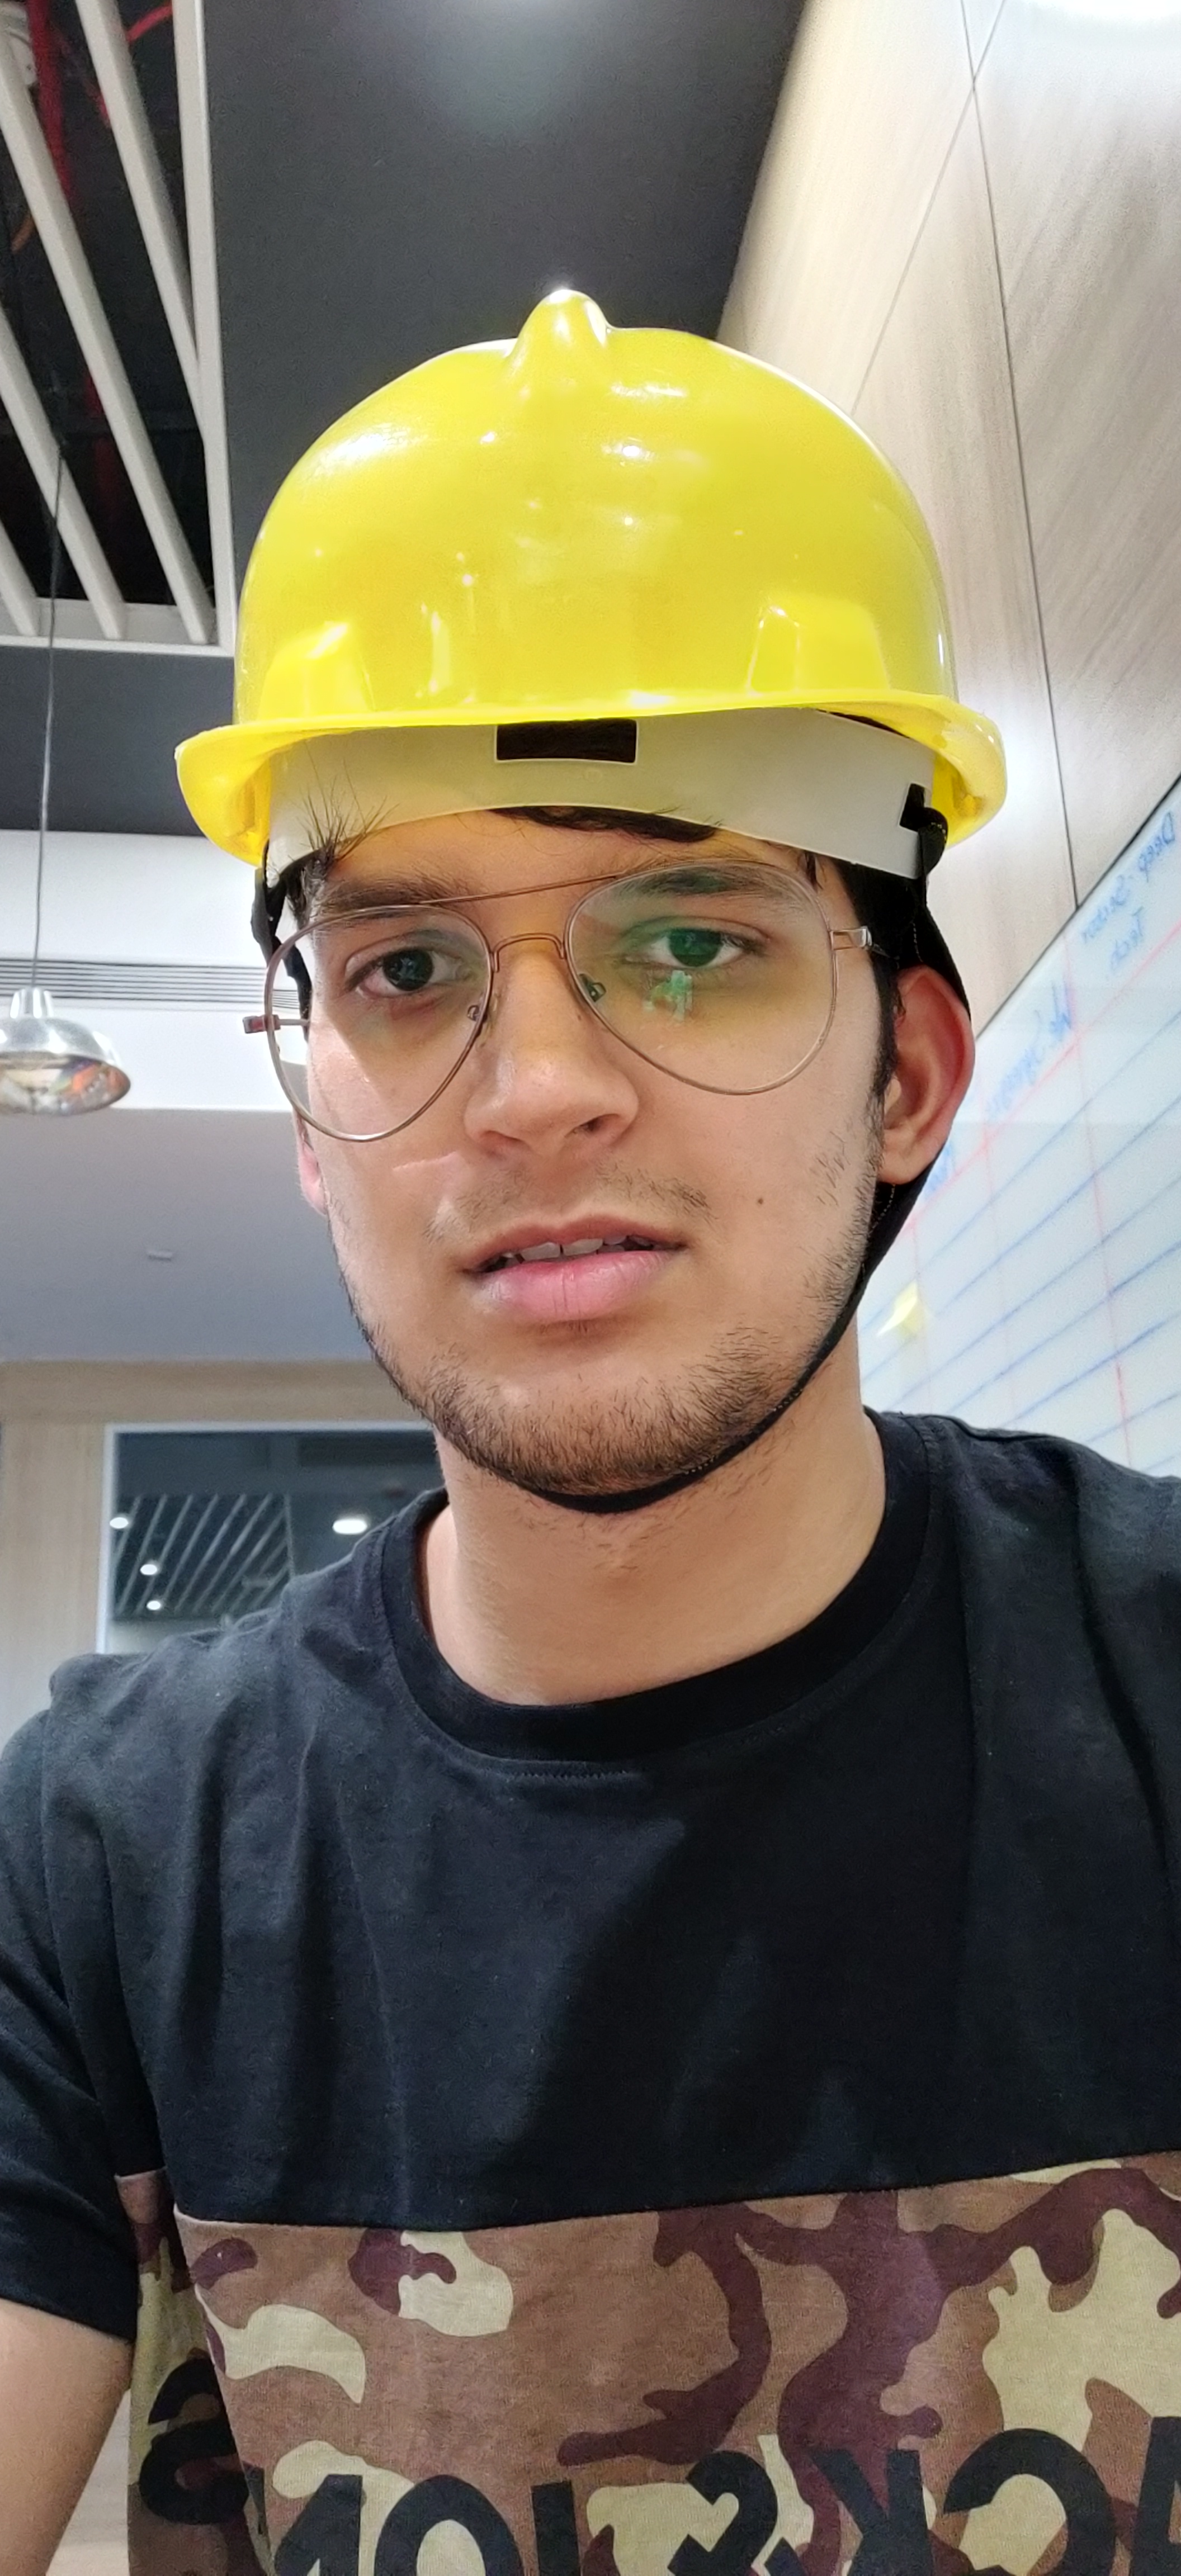Person_wearing_helmet: (149, 277, 1073, 1117)
